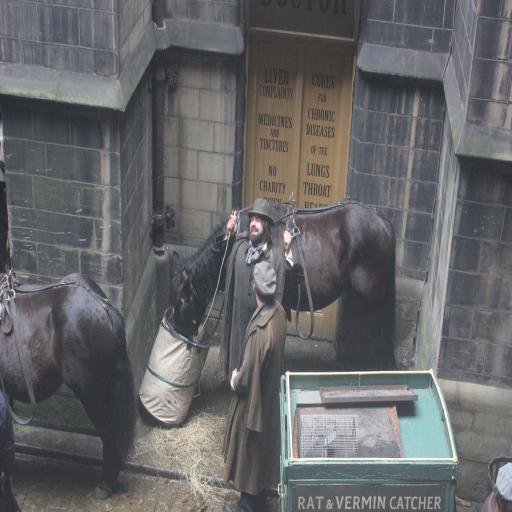horse: (170, 196, 394, 370), (0, 270, 135, 500)
